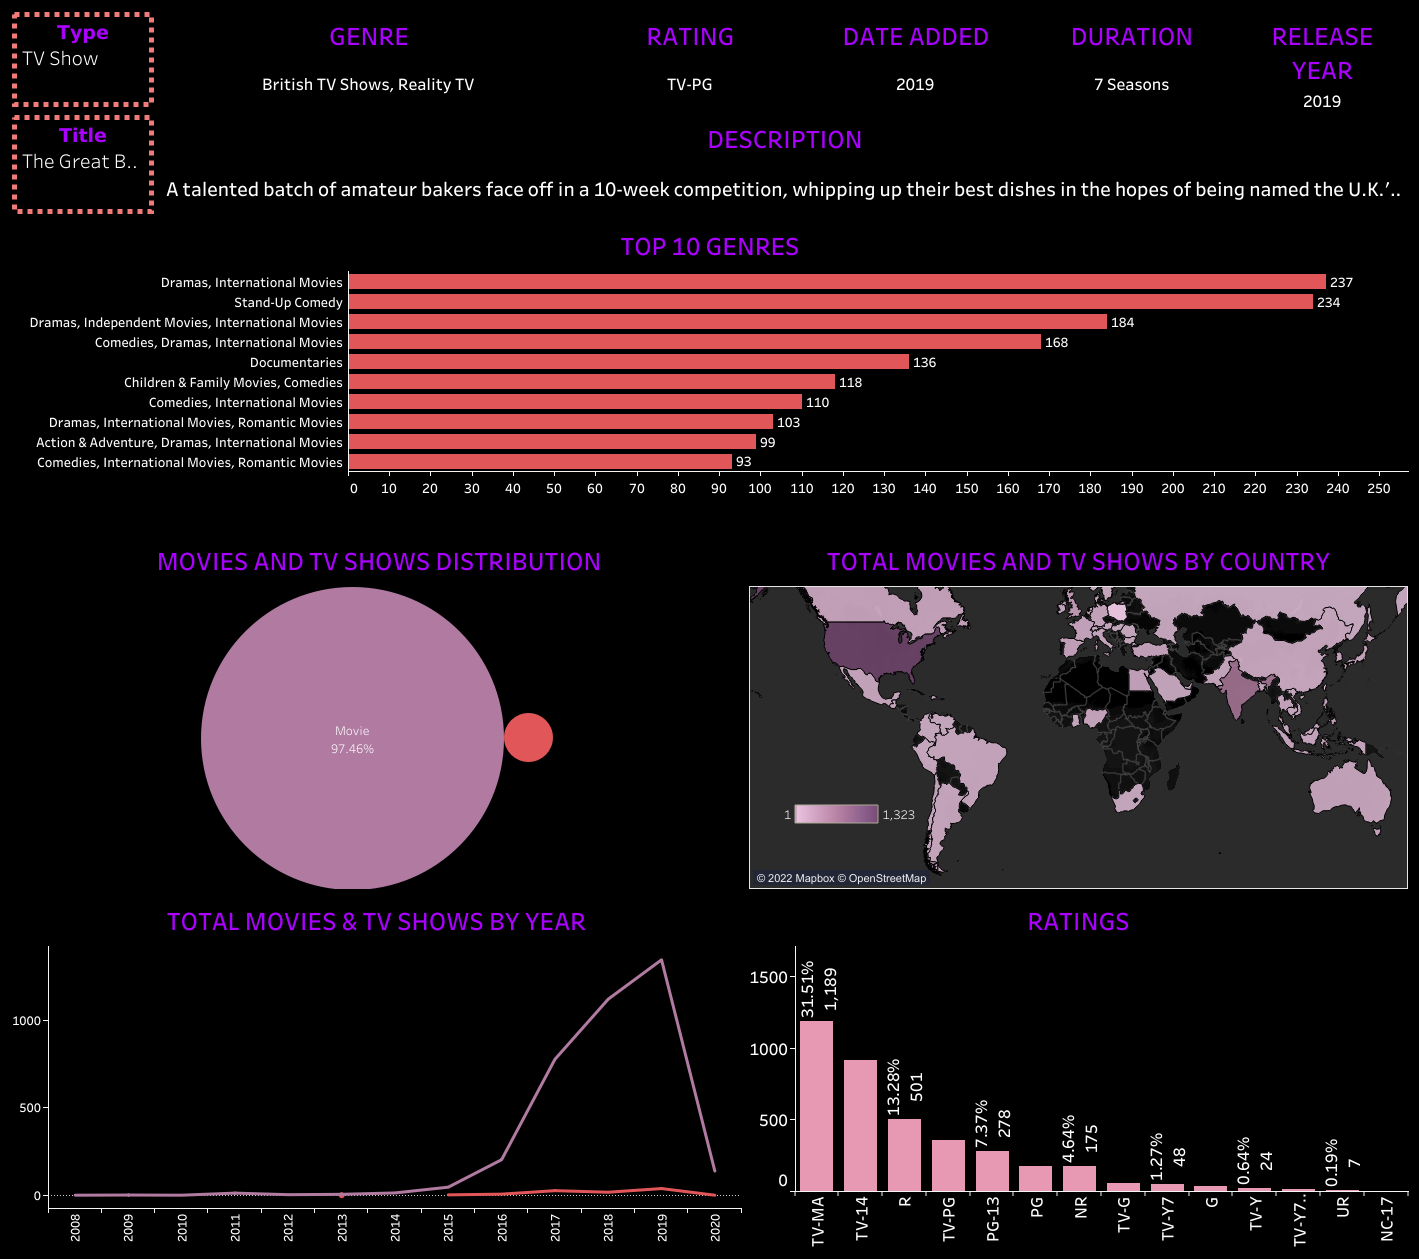

The dashboard page shown, as its layout file describes it:
{"tool":"tableau","page":{"name":"Dashboard 2","canvas":[1000,1000],"units":"permille","ordinal":0},"visuals":[{"type":"filter","title":"DESCRIPTION","param":"[federated.1lu6d590z8ceow1dbapp01bu6e3v].[none:type:nk]","box":[5.6,6.4,105.4,81.8]},{"type":"worksheet","title":"GENRE","mark":"Automatic","box":[111,6.4,297.3,81.8]},{"type":"worksheet","title":"RATING","mark":"Automatic","box":[408.4,6.4,155.6,81.8]},{"type":"worksheet","title":"DATE ADDED","mark":"Automatic","box":[564,6.4,162,81.8]},{"type":"worksheet","title":"DURATION","mark":"Automatic","box":[726,6.4,142.2,81.8]},{"type":"worksheet","title":"RELEASE YEAR","mark":"Automatic","box":[868.2,6.4,126.2,81.8]},{"type":"filter","title":"DESCRIPTION","param":"[federated.1lu6d590z8ceow1dbapp01bu6e3v].[none:title:nk]","box":[5.6,88.1,105.4,84.9]},{"type":"worksheet","title":"DESCRIPTION","mark":"Automatic","box":[111,88.1,883.4,84.9]},{"type":"worksheet","title":"TOP 10 GENRE","mark":"Automatic","rows":["listed_in"],"cols":["show_id"],"box":[5.6,173,988.7,250.3]},{"type":"worksheet","title":"MOVIES AND TV SHOWS DISTRIBUTION","mark":"Circle","box":[5.6,423.3,518.9,285.1]},{"type":"worksheet","title":"MOVIES AND TV SHOWS BY COUNTRY","mark":"Multipolygon","box":[524.5,423.3,469.8,285.1]},{"type":"legend","title":"MOVIES AND TV SHOWS BY COUNTRY","param":"[federated.1lu6d590z8ceow1dbapp01bu6e3v].[ctd:show_id:qk]","box":[549.3,635.9,98.6,35.9]},{"type":"worksheet","title":"MOVIES AND TV SHOWS BY YEARS","mark":"Automatic","rows":["show_id"],"cols":["date_added"],"box":[5.6,708.5,518.9,285.2]},{"type":"worksheet","title":"RATINGS","mark":"Automatic","rows":["show_id"],"cols":["rating"],"box":[524.5,708.5,469.8,285.2]}]}

Visuals, with their boxes on the dashboard's canvas, which has no fixed pixel size, in thousandths of its width and height (x1, y1, x2, y2). These are canvas units, not pixel positions in the 1419x1259 screenshot, which may show the page scaled, cropped or inside an application window:
"DESCRIPTION" filter: box=[6, 6, 111, 88]
"GENRE" worksheet: box=[111, 6, 408, 88]
"RATING" worksheet: box=[408, 6, 564, 88]
"DATE ADDED" worksheet: box=[564, 6, 726, 88]
"DURATION" worksheet: box=[726, 6, 868, 88]
"RELEASE YEAR" worksheet: box=[868, 6, 994, 88]
"DESCRIPTION" filter: box=[6, 88, 111, 173]
"DESCRIPTION" worksheet: box=[111, 88, 994, 173]
"TOP 10 GENRE" worksheet: box=[6, 173, 994, 423]
"MOVIES AND TV SHOWS DISTRIBUTION" worksheet (Circle marks): box=[6, 423, 524, 708]
"MOVIES AND TV SHOWS BY COUNTRY" worksheet (Multipolygon marks): box=[524, 423, 994, 708]
"MOVIES AND TV SHOWS BY COUNTRY" legend: box=[549, 636, 648, 672]
"MOVIES AND TV SHOWS BY YEARS" worksheet: box=[6, 708, 524, 994]
"RATINGS" worksheet: box=[524, 708, 994, 994]
